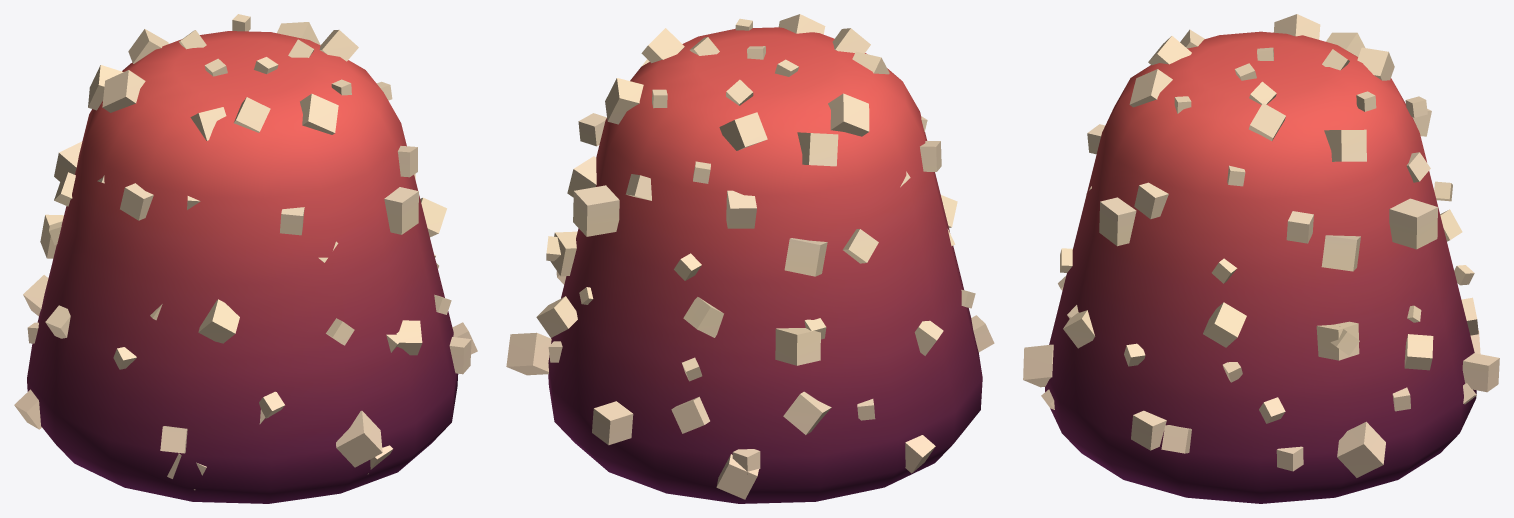
The model's file is candy_glass_21.fbx.
The picture shows the model from 3 angles, left to right: view 1: azimuth 30°, elevation 25°; view 2: azimuth 150°, elevation 25°; view 3: azimuth 270°, elevation 25°; orthographic projection.
Parts seen in each view (by area): view 1: c_g_21; view 2: c_g_21; view 3: c_g_21.
Part boxes in pixels (x1,y1,x2,y2): c_g_21: (14,14,477,503); c_g_21: (506,14,994,503); c_g_21: (1023,14,1499,503).
Bounding box in the file's own units: 158 × 144 × 165.
